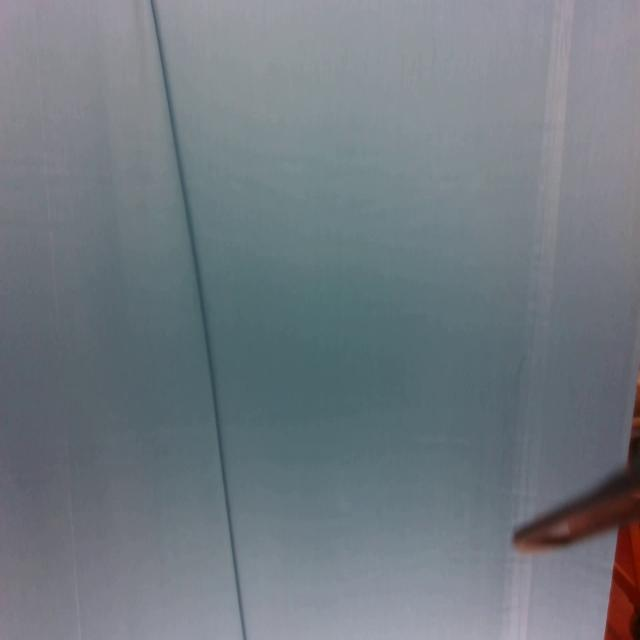crease: (149, 0, 247, 640), (28, 0, 82, 640), (517, 2, 574, 501), (503, 552, 533, 640)
